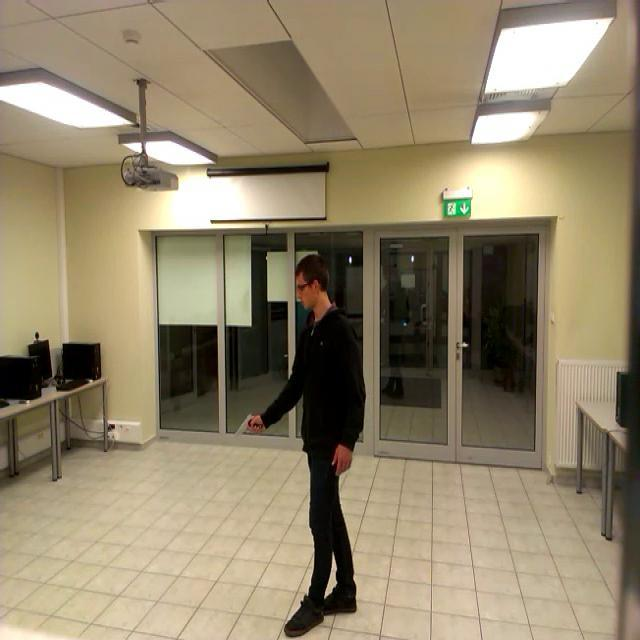Gun: (234, 412, 262, 438)
